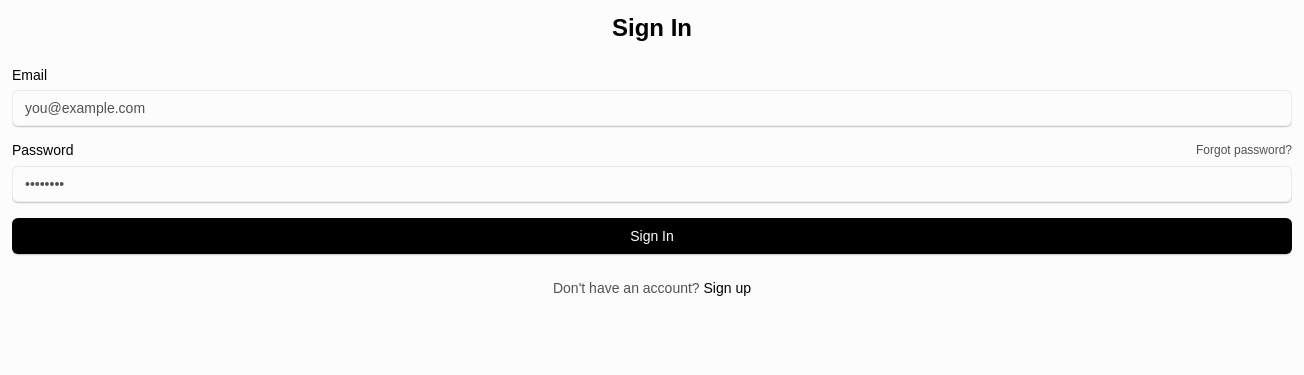
Scenario: LoginForm › should display error message on sign in failure
Type "test@example.com" into the field labelled "Email" at (652, 108), box [12,90,1292,126]
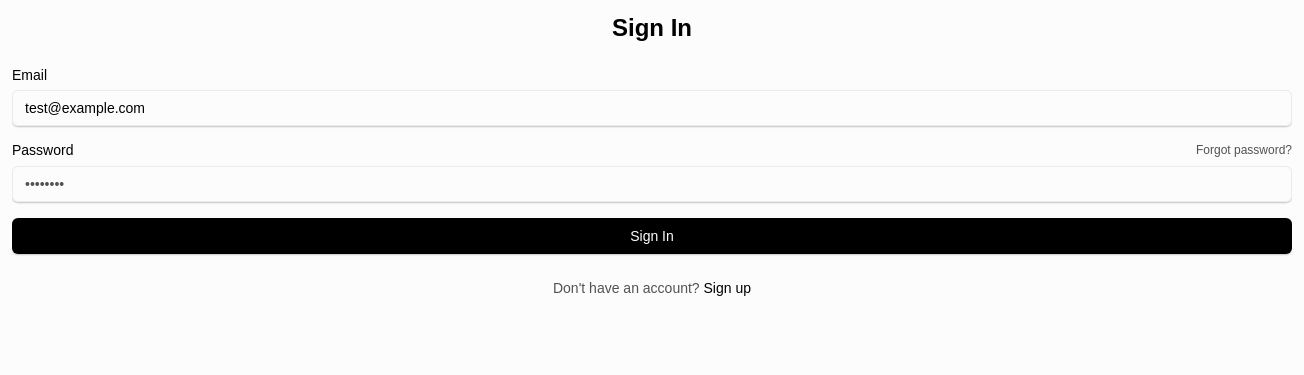
Type "wrongpassword" into the password field labelled "Password" at (652, 184), box [12,166,1292,202]
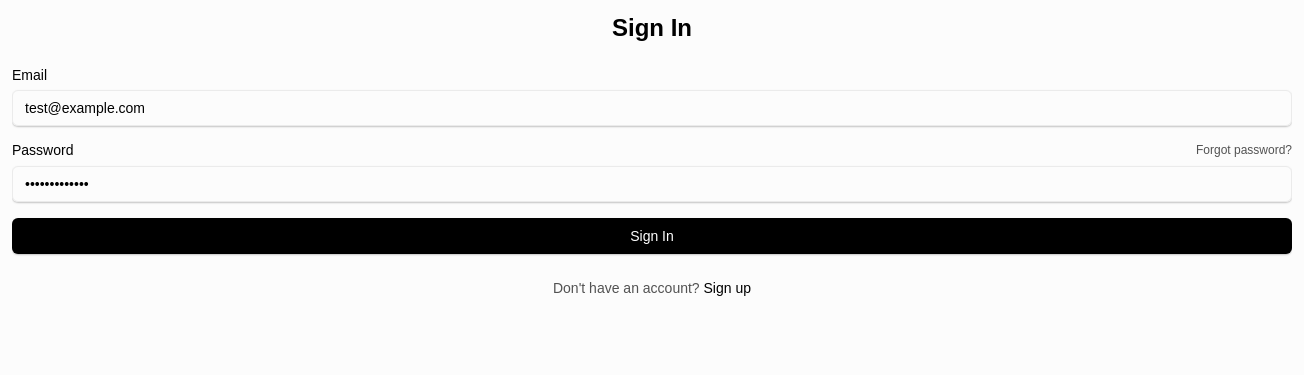
Click the button "Sign In" at (652, 236), box [12,218,1292,254]
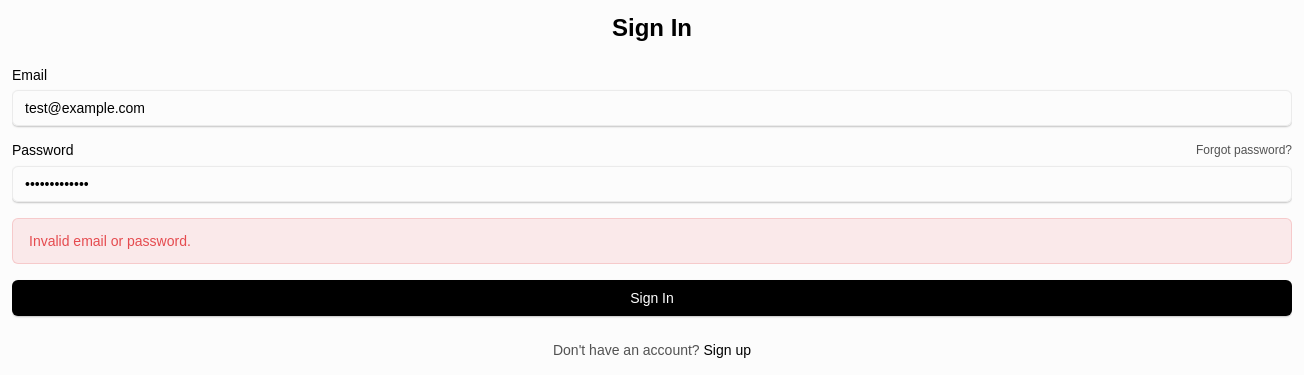
expect the text "Invalid email or password." is shown: met, box [29,233,191,249]
